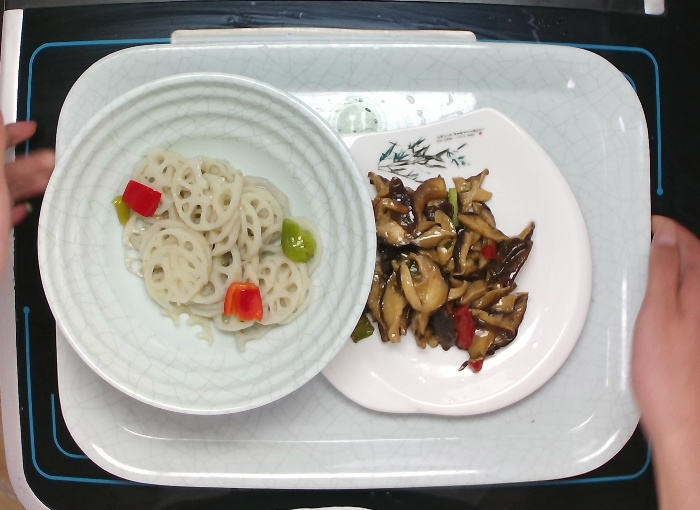JYsf-Da_Tang_Wan: (32, 67, 379, 419)
JYsf-Mian_Pan: (306, 101, 602, 421)
